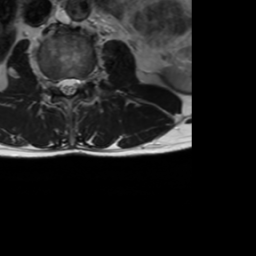CCS_normal: (65, 71, 72, 104)
LFS_stenosis: (81, 71, 90, 96)
LLS_normal: (72, 72, 80, 97)
RFS_stenosis: (50, 72, 58, 99)
RLS_normal: (58, 72, 65, 99)
